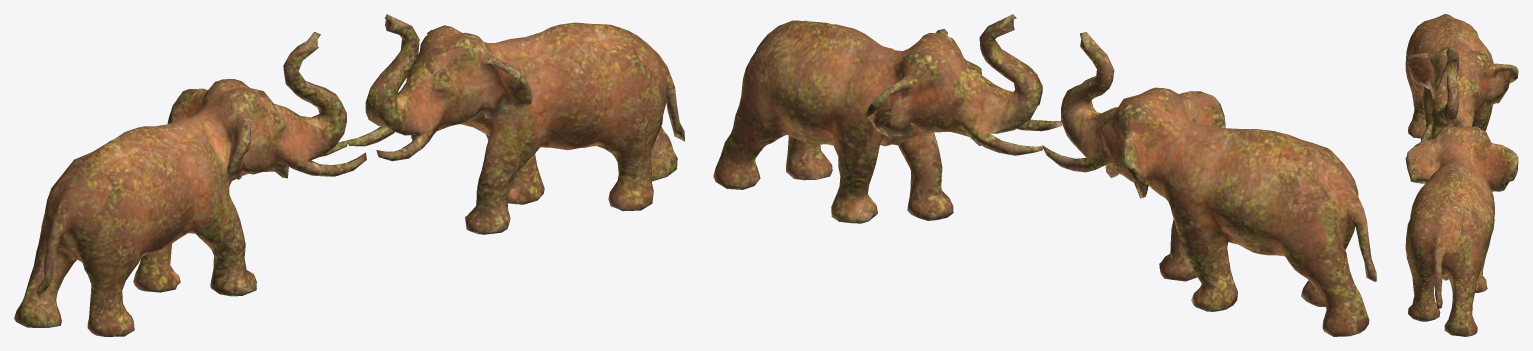
The model's file is twin elephants larg.fbx.
3 renders of one model, left to right at view 1: azimuth 30°, elevation 25°; view 2: azimuth 150°, elevation 25°; view 3: azimuth 270°, elevation 25°, orthographic. The views are drawn at different scales.
Parts seen in each view (by area): view 1: elephant large; view 2: elephant large; view 3: elephant large.
Boxes of the visible parts, x1,y1,x2,y2 form: elephant large: (14, 14, 684, 336); elephant large: (713, 14, 1376, 336); elephant large: (1405, 14, 1518, 336).
Bounding box in the file's own units: 17.55 × 5.84 × 3.63.
